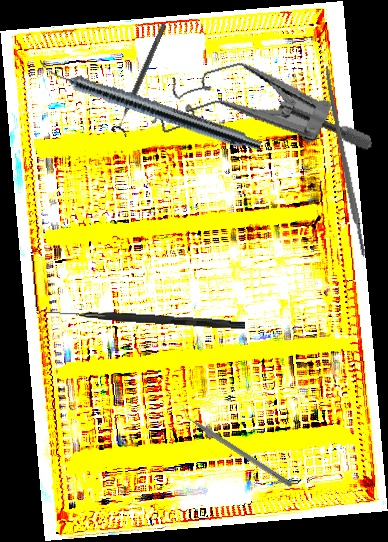Chopper: (176, 403, 298, 488)
Fixation Ring: (109, 20, 174, 138)
Handpiece: (33, 57, 265, 155)
Hook Surgical: (45, 308, 246, 330)
Scalpel Handle: (321, 65, 368, 259)
Speculum: (141, 28, 374, 205)
